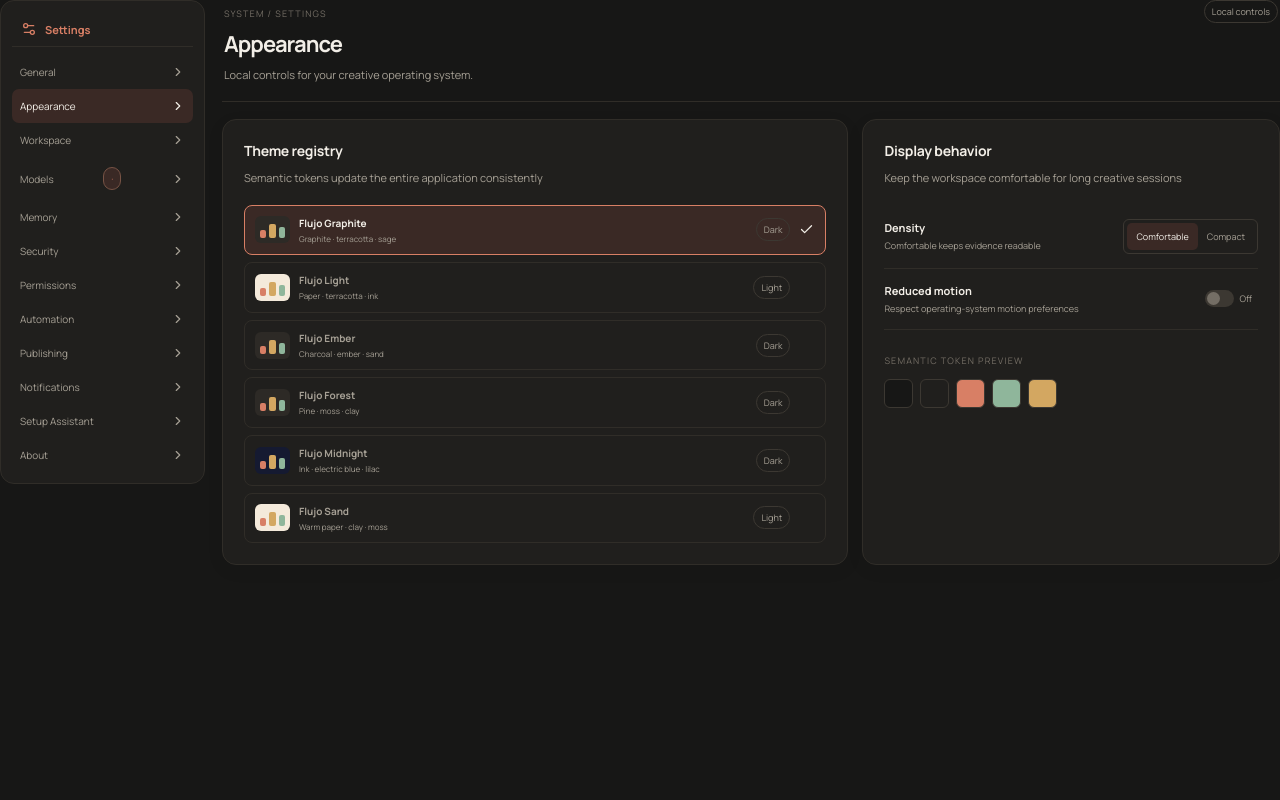
Test: SettingsHub Models section reads the live gateway › loads the real catalog and labels the explicit simulator state from gateway health
Click the button "Models ·": [102, 178] box top-left (12, 157), bottom-right (193, 200)
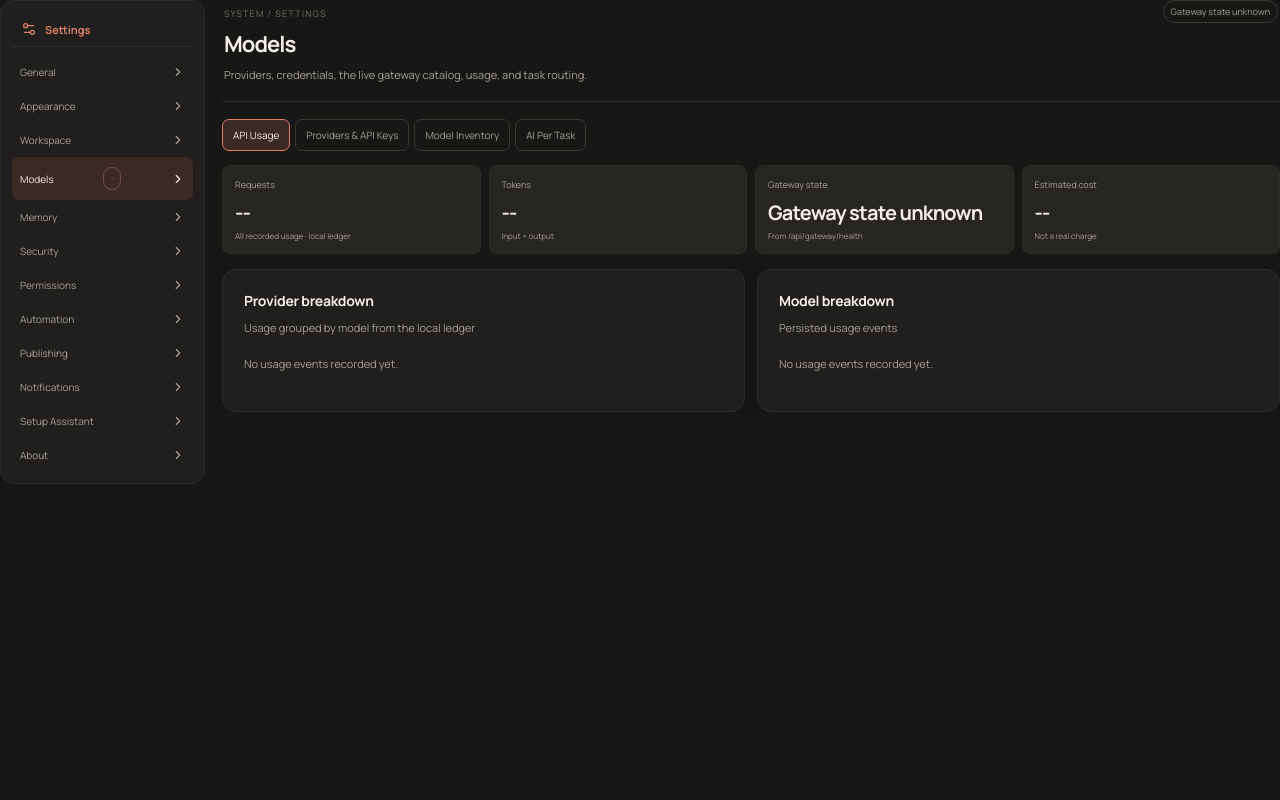
Click the button "Model Inventory": [462, 135] box top-left (414, 119), bottom-right (510, 151)
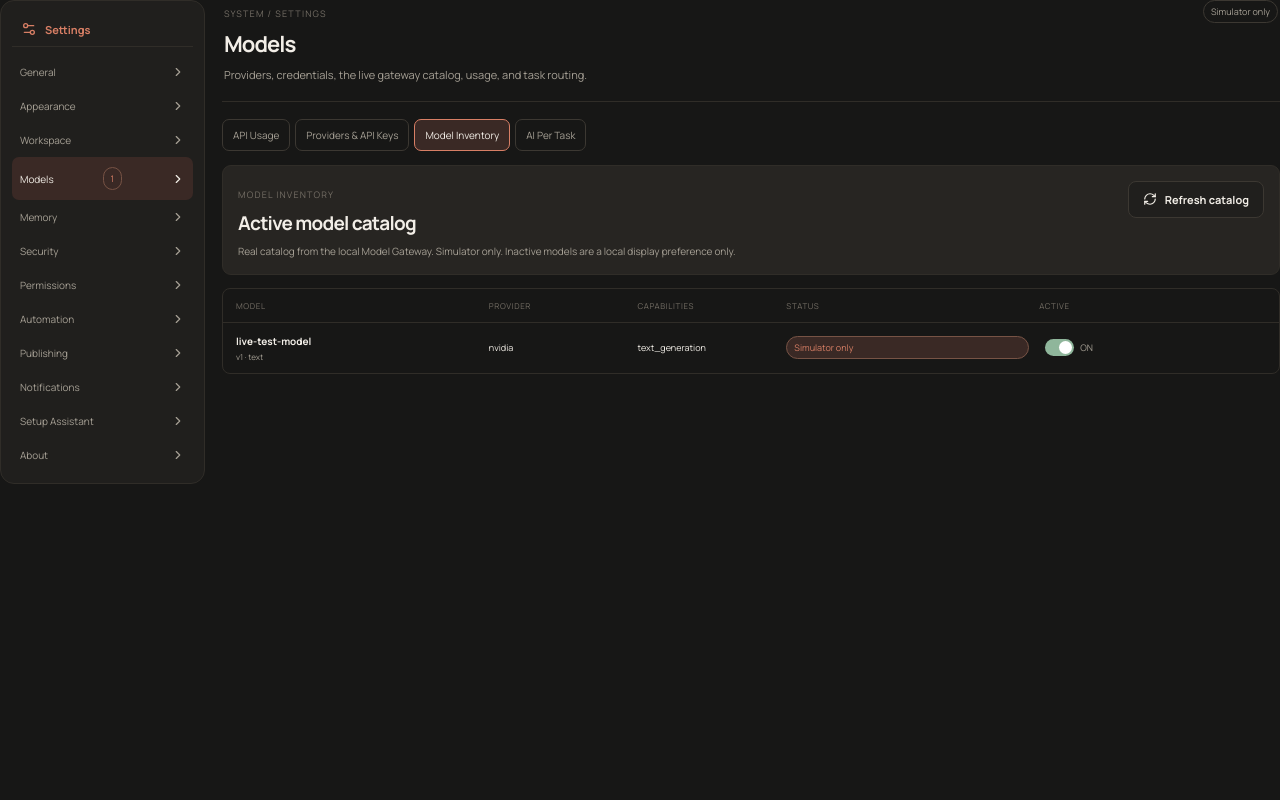
expect the text "live-test-model" is shown: met, box top-left (236, 334), bottom-right (311, 348)
expect the text "Simulator only" in the row of "System / Settings" is shown: met, box top-left (1211, 5), bottom-right (1270, 18)
